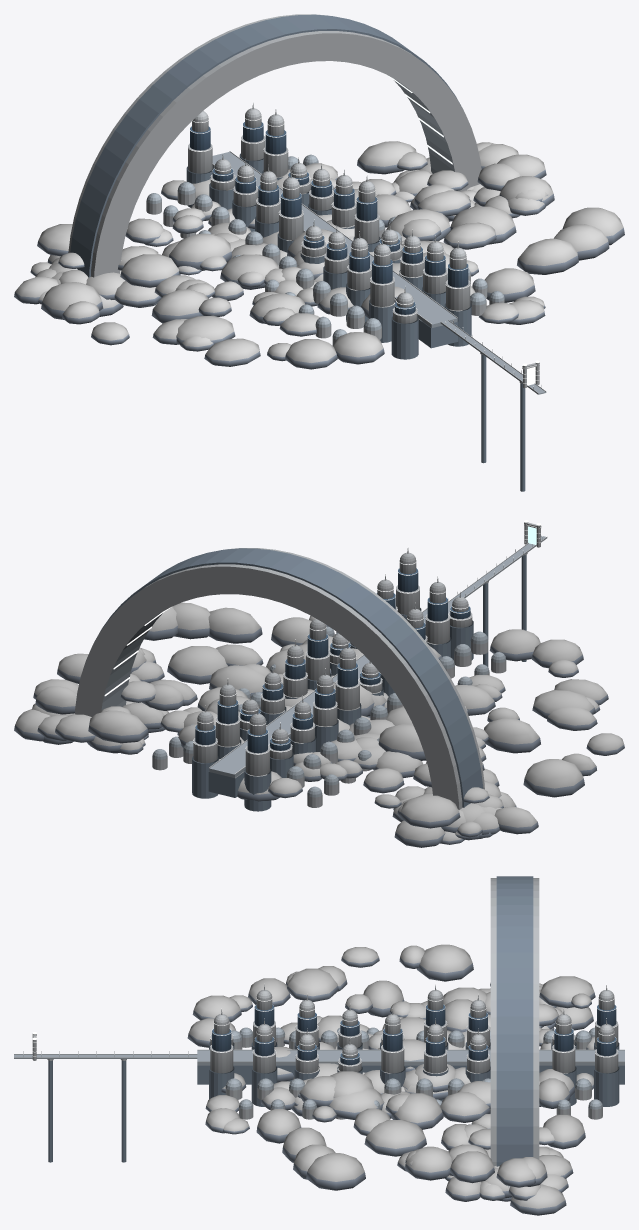
Rendered from shaddai_edge_arch_v01.glb.
3 views of the same model, one above another, from view 1: azimuth 30°, elevation 25°; view 2: azimuth 150°, elevation 25°; view 3: azimuth 270°, elevation 25° (orthographic). The views are drawn at different scales.
Visible parts, largest first — view 1: shaddai_edge_arch; view 2: shaddai_edge_arch; view 3: shaddai_edge_arch.
Boxes of the visible parts, <box> form: shaddai_edge_arch: <box>14,14,624,491</box>; shaddai_edge_arch: <box>14,520,624,847</box>; shaddai_edge_arch: <box>14,876,624,1215</box>.
Bounding box in the file's own units: 921 × 479 × 1000.
